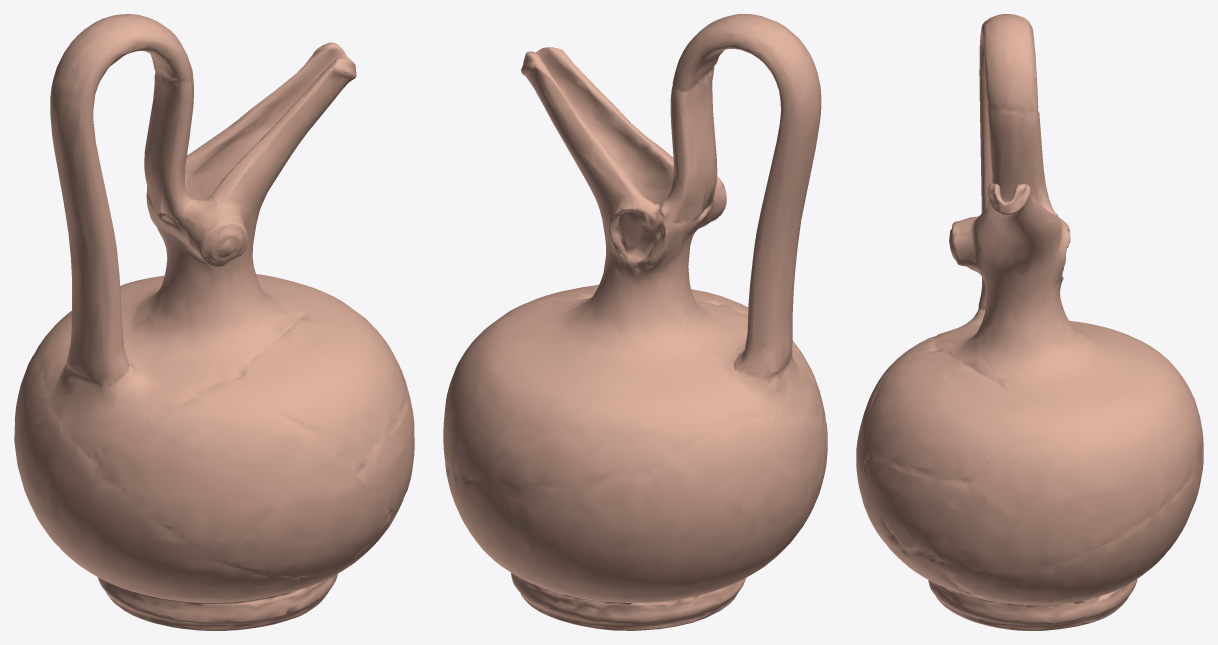
File: wc-msr-vase-aryballisque.glb
3 renders of one model, left to right at view 1: azimuth 30°, elevation 25°; view 2: azimuth 150°, elevation 25°; view 3: azimuth 270°, elevation 25°, orthographic. The views are drawn at different scales.
Parts seen in each view (by area): view 1: wc-msr-vase-aryballisque; view 2: wc-msr-vase-aryballisque; view 3: wc-msr-vase-aryballisque.
Part boxes in pixels (<box>): wc-msr-vase-aryballisque: <box>14,14,414,630</box>; wc-msr-vase-aryballisque: <box>443,14,827,630</box>; wc-msr-vase-aryballisque: <box>856,14,1203,630</box>.
Bounding box in the file's own units: 0.1018 × 0.17 × 0.1023.
